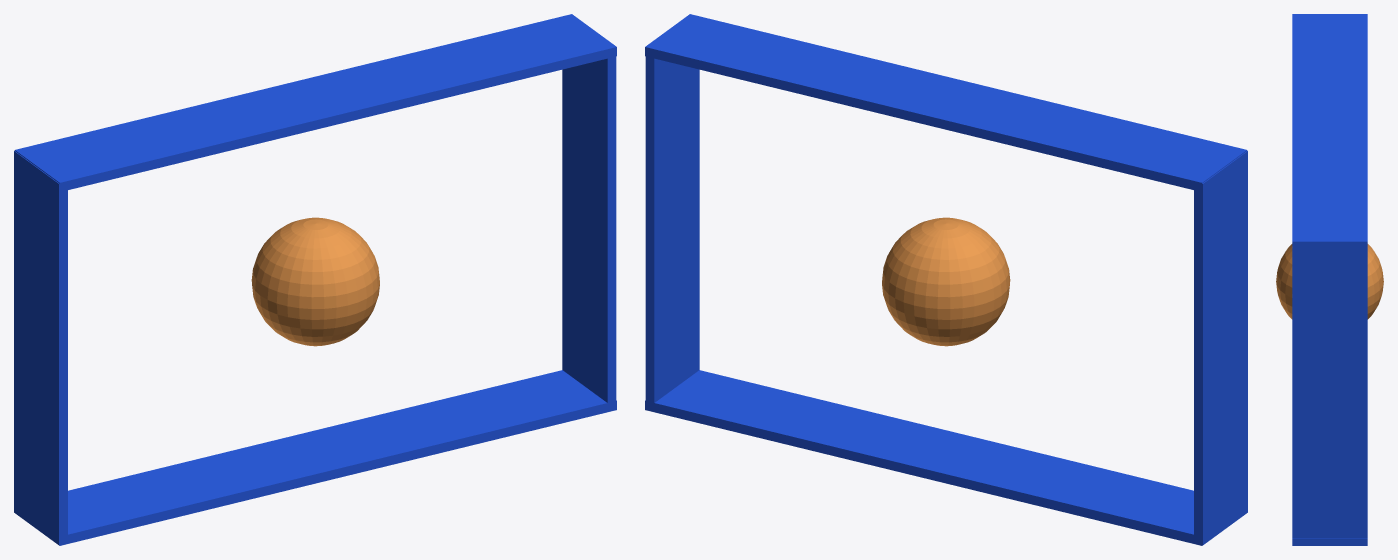
Rendered from Portal.fbx.
3 renders of one model, left to right at view 1: azimuth 30°, elevation 25°; view 2: azimuth 150°, elevation 25°; view 3: azimuth 270°, elevation 25°, orthographic. The views are drawn at different scales.
Visible parts, largest first — view 1: Cube.003, Cube, Cube.001, Cube.002, Sphere; view 2: Cube.003, Cube, Cube.001, Cube.002, Sphere; view 3: Cube.002, Cube.003, Sphere, Cube.
Part boxes in pixels (x1,y1,x2,y2): Cube.003: (14,14,616,191); Cube: (59,370,616,545); Cube.001: (14,151,67,545); Cube.002: (562,49,616,402); Sphere: (251,217,379,346); Cube.003: (645,14,1247,191); Cube: (645,370,1202,545); Cube.001: (1194,151,1247,545); Cube.002: (645,48,699,409); Sphere: (882,217,1010,346); Cube.002: (1292,249,1367,537); Cube.003: (1292,14,1367,249); Sphere: (1276,244,1383,319); Cube: (1292,538,1367,545).
Size of the model in its own units: 1001 by 623 by 200.
